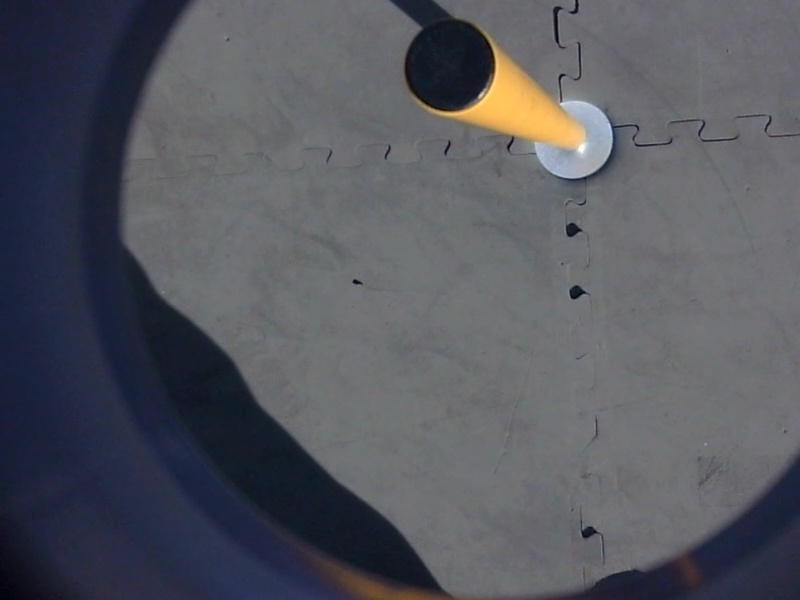tip: (396, 14, 503, 123)
